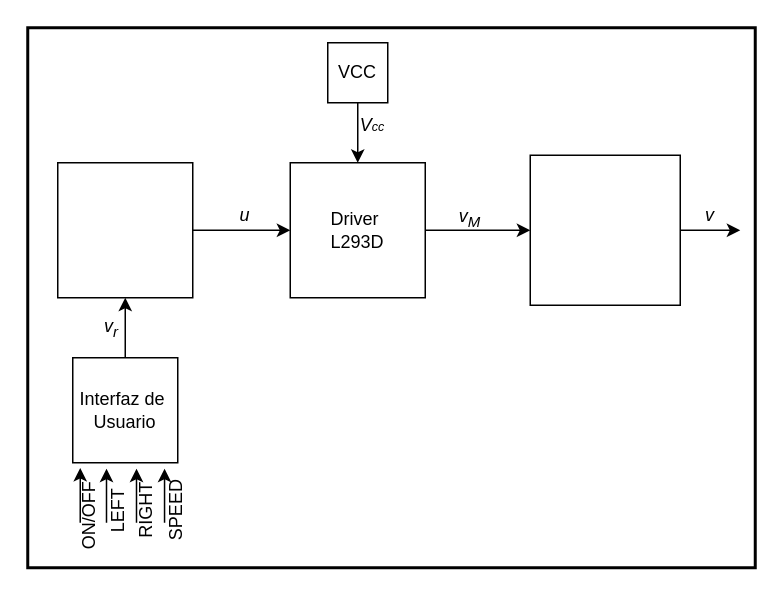
The diagram is 782 pixels wide and 594 high, and some of its shapes have lost their labels. Each missing label, with the box of its shape:
Controlador PIC16F1826: (56, 161, 193, 298)
Motor DC TS-256A370H-34: (529, 154, 680, 305)
